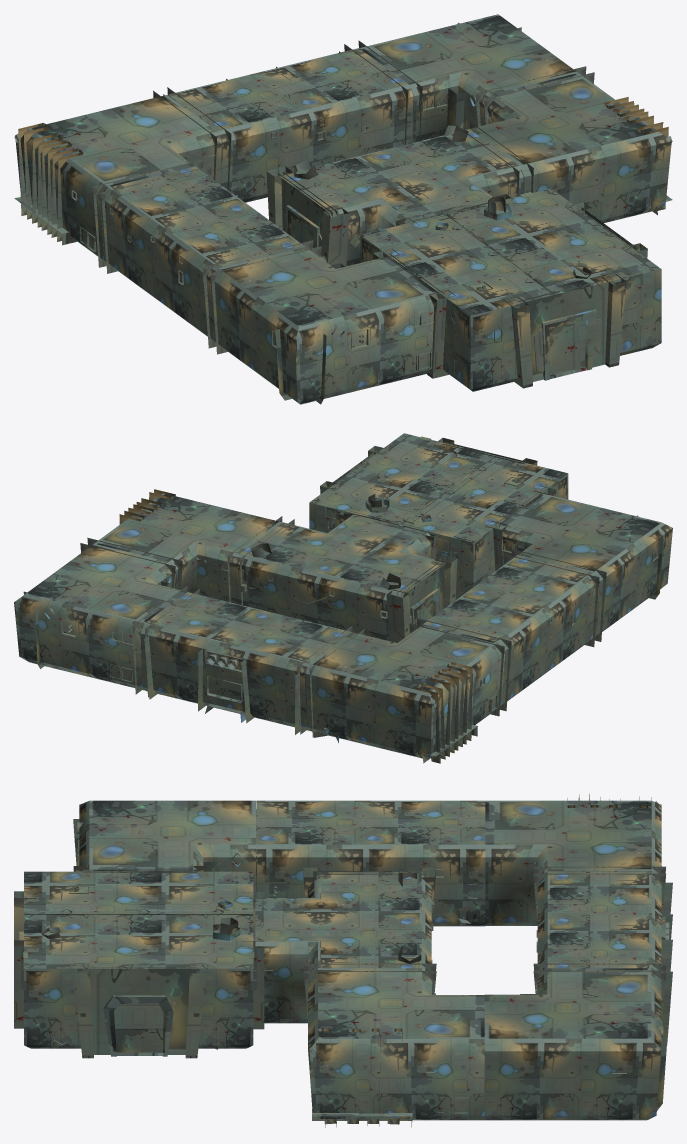
File: Combined_Mesh_root_scene__19_0bed480f__zombies2_diffuse_02_6de118bf_c1f257.obj
3 views of the same model, one above another, from view 1: azimuth 30°, elevation 25°; view 2: azimuth 150°, elevation 25°; view 3: azimuth 270°, elevation 25° (orthographic). The views are drawn at different scales.
Size of the model in its own units: 51.83 by 9.64 by 57.53.
123 materials, 123 textured.
